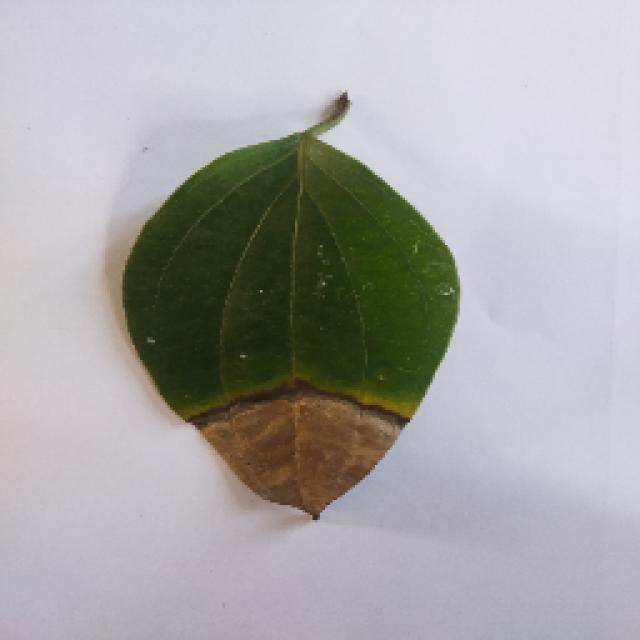footrot: (115, 95, 463, 523)
